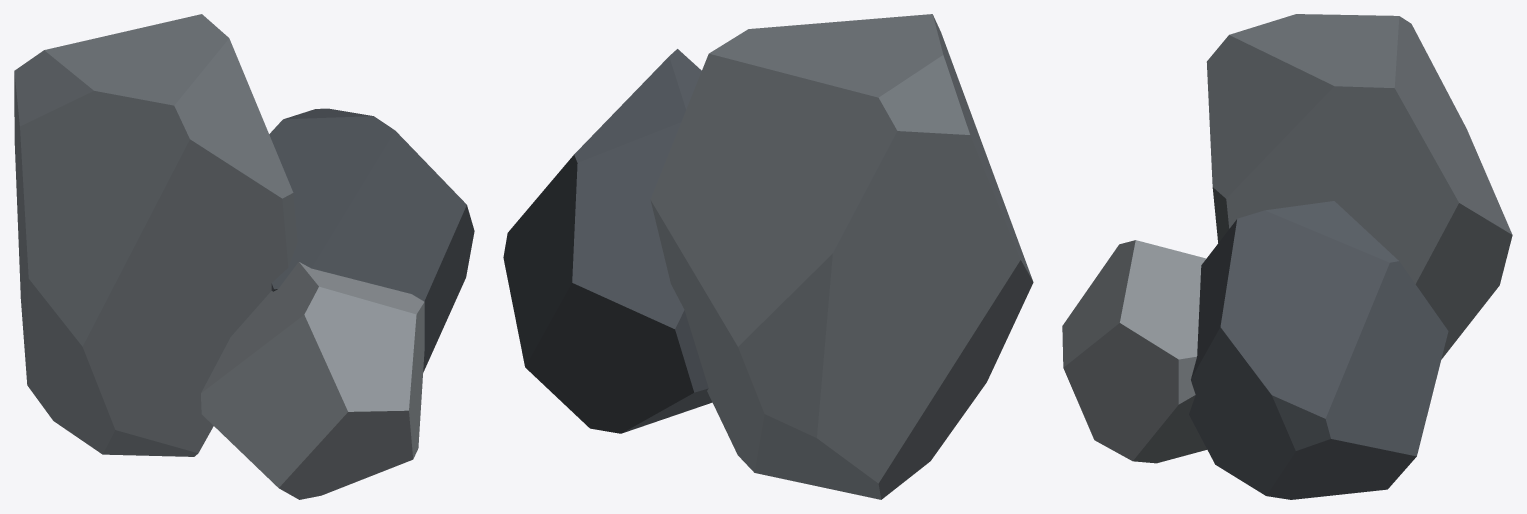
File: mdvl_nature_rocks_01.glb
The picture shows the model from 3 angles, left to right: view 1: azimuth 30°, elevation 25°; view 2: azimuth 150°, elevation 25°; view 3: azimuth 270°, elevation 25°; orthographic projection. The views are drawn at different scales.
Parts seen in each view (by area): view 1: mdvl_nature_rocks_01; view 2: mdvl_nature_rocks_01; view 3: mdvl_nature_rocks_01.
Part boxes in pixels (<box>): mdvl_nature_rocks_01: <box>14,14,474,499</box>; mdvl_nature_rocks_01: <box>503,14,1033,499</box>; mdvl_nature_rocks_01: <box>1062,14,1512,499</box>.
Size of the model in its own units: 1.13 by 0.89 by 1.04.
Materials: 1 (1 with a texture image).
